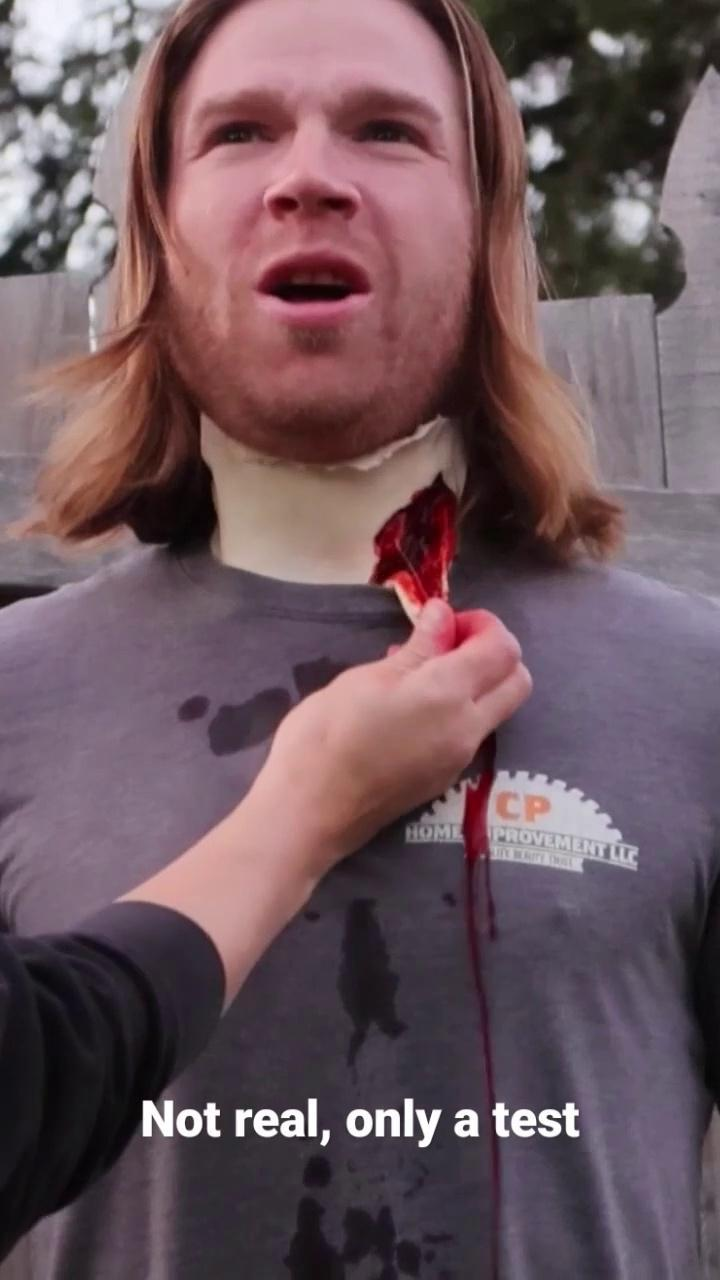Fire: (462, 733, 501, 1280), (370, 475, 457, 622)
